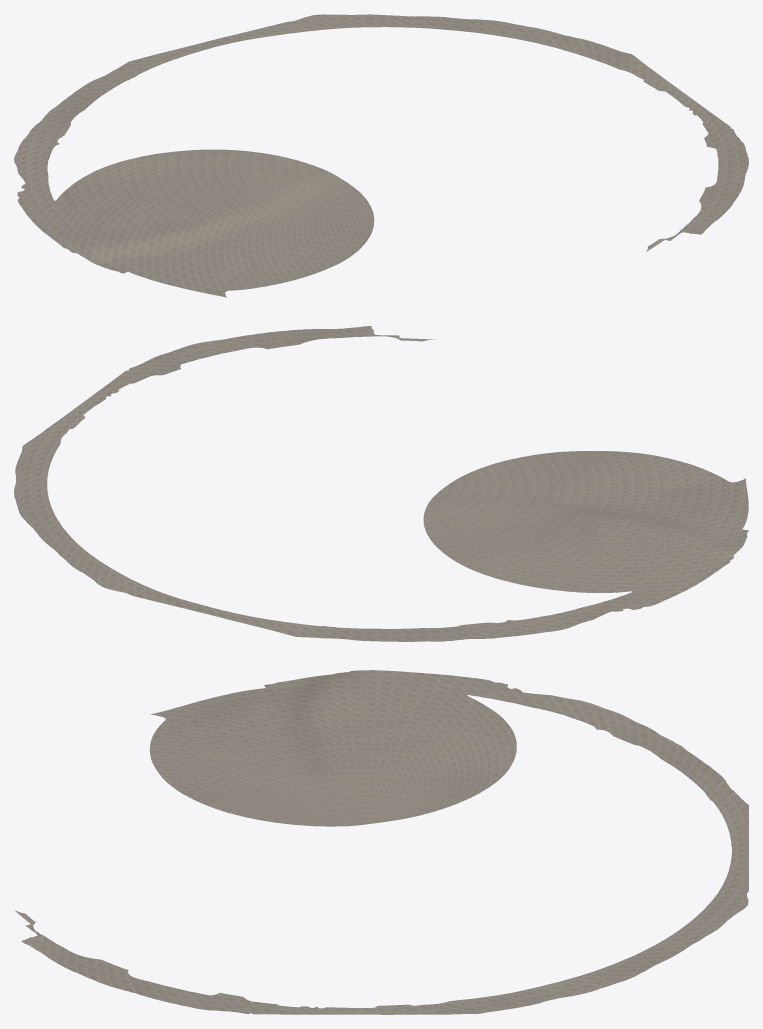
Rendered from plaza_01.gltf.
The picture shows the model from 3 angles, top to bottom: view 1: azimuth 30°, elevation 25°; view 2: azimuth 150°, elevation 25°; view 3: azimuth 270°, elevation 25°; orthographic projection. The views are drawn at different scales.
Visible parts, largest first — view 1: plaza_01.surface; view 2: plaza_01.surface; view 3: plaza_01.surface.
Part boxes in pixels (box(x1,y1,x2,y2)): plaza_01.surface: box(14, 14, 748, 297); plaza_01.surface: box(14, 326, 748, 641); plaza_01.surface: box(14, 670, 748, 1014).
Bounding box in the file's own units: 219 × 1.88 × 198.
1 material, 1 textured.
